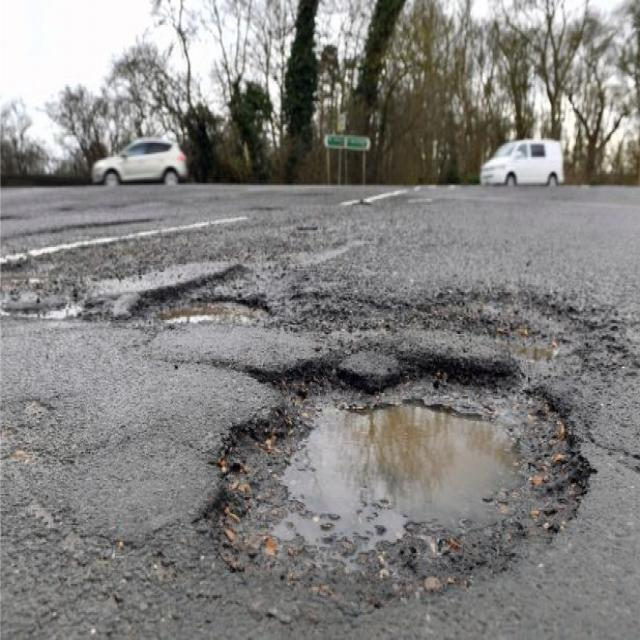pothole: (192, 340, 600, 611), (121, 250, 275, 333)
